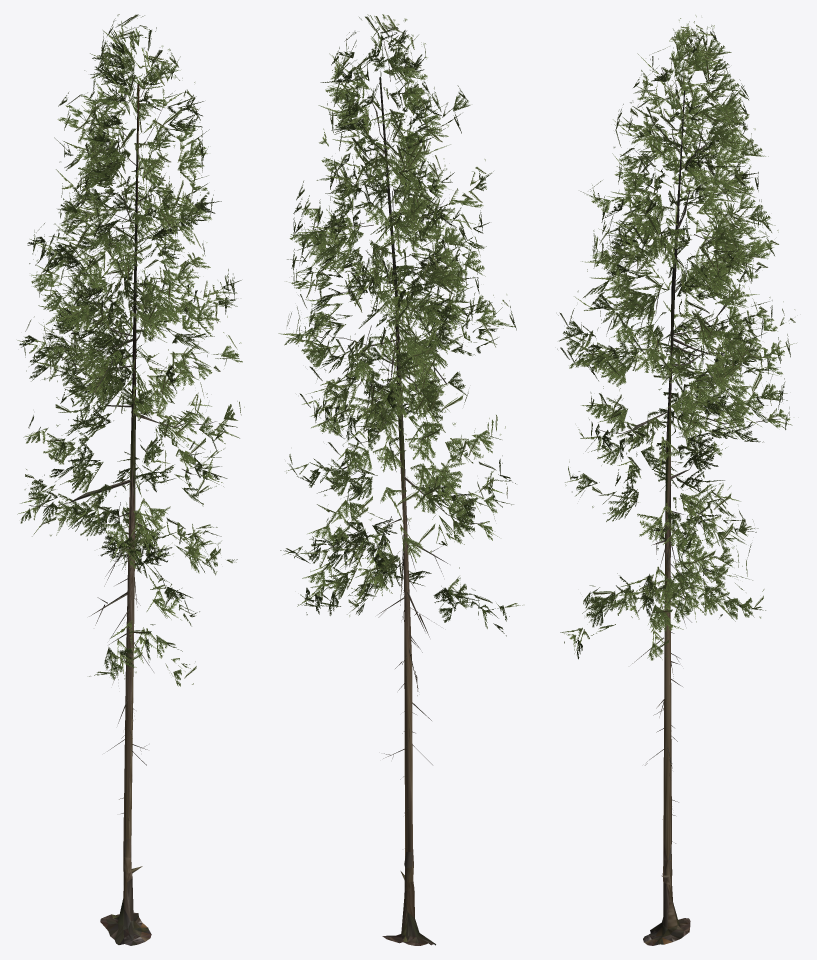
Rendered from conifer-a.glb.
3 views of the same model, side by side, from view 1: azimuth 30°, elevation 25°; view 2: azimuth 150°, elevation 25°; view 3: azimuth 270°, elevation 25° (orthographic). The views are drawn at different scales.
Parts seen in each view (by area): view 1: SM_AlpineConifer_A_2, SM_AlpineConifer_A_1, SM_AlpineConifer_A_0, SM_AlpineConifer_A_3; view 2: SM_AlpineConifer_A_2, SM_AlpineConifer_A_1, SM_AlpineConifer_A_0, SM_AlpineConifer_A_3; view 3: SM_AlpineConifer_A_2, SM_AlpineConifer_A_1, SM_AlpineConifer_A_0.
Part boxes in pixels (left/top/right/bottom): SM_AlpineConifer_A_2: left=17, top=14, right=244, bottom=686; SM_AlpineConifer_A_1: left=100, top=84, right=151, bottom=945; SM_AlpineConifer_A_0: left=29, top=64, right=216, bottom=588; SM_AlpineConifer_A_3: left=89, top=512, right=159, bottom=813; SM_AlpineConifer_A_2: left=278, top=14, right=522, bottom=636; SM_AlpineConifer_A_1: left=379, top=77, right=435, bottom=945; SM_AlpineConifer_A_0: left=297, top=39, right=482, bottom=584; SM_AlpineConifer_A_3: left=378, top=510, right=447, bottom=822; SM_AlpineConifer_A_2: left=557, top=15, right=796, bottom=660; SM_AlpineConifer_A_1: left=643, top=90, right=690, bottom=945; SM_AlpineConifer_A_0: left=598, top=67, right=777, bottom=610.
Size of the model in its own units: 5.24 by 20.28 by 4.91.
4 materials, 4 textured.
